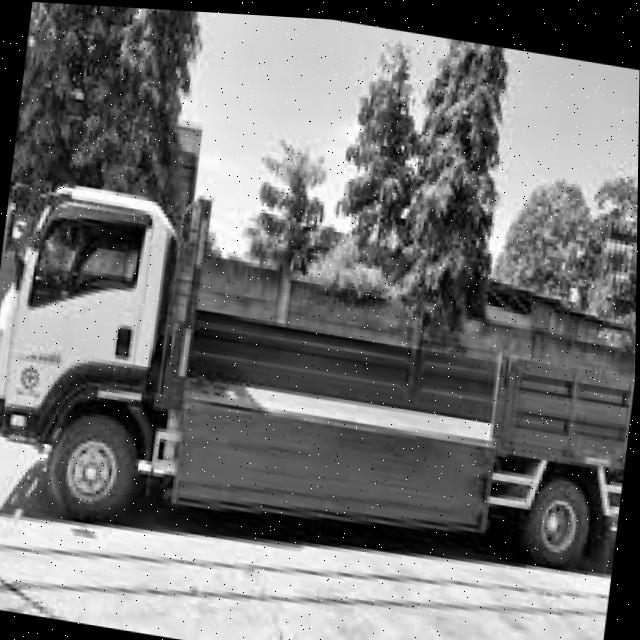truck: (1, 147, 195, 541)
